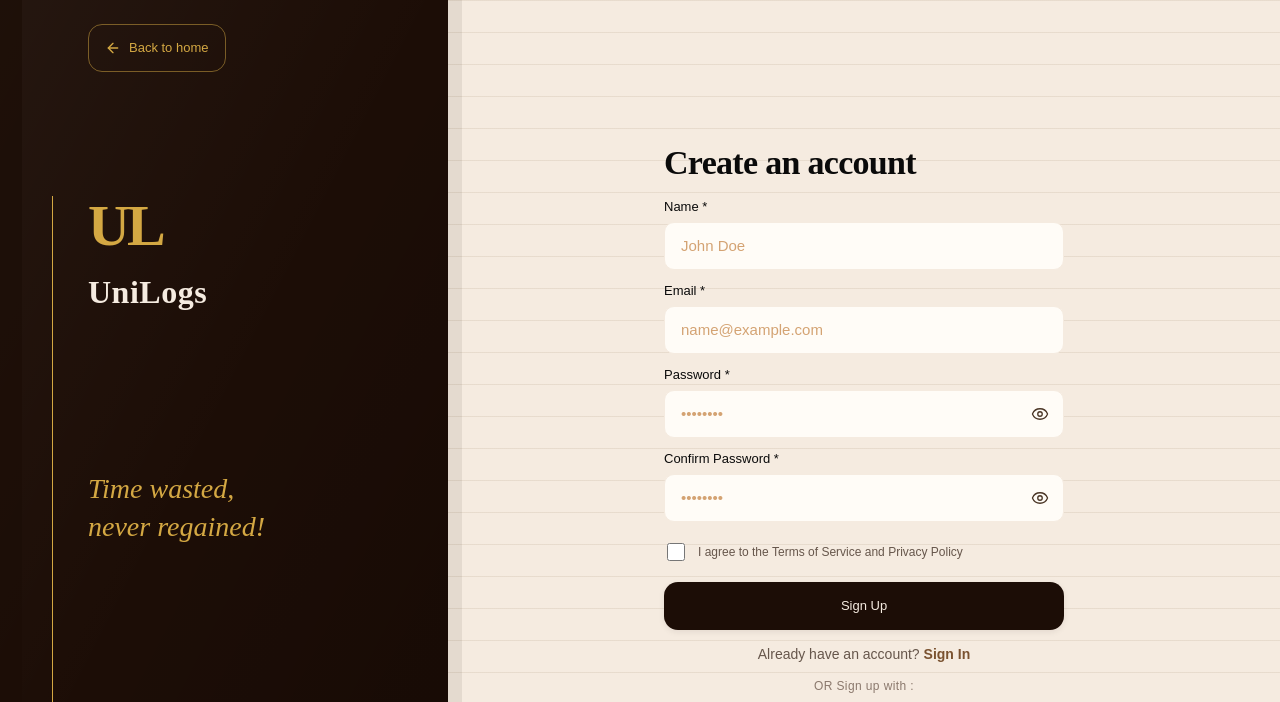
auth back links › sign up → sign in offers "Back to sign up", which leads back to sign up
The width and height of the screenshot is (1280, 702).
Click the link "Sign In". click: (947, 654)
box: [924,646,970,662]
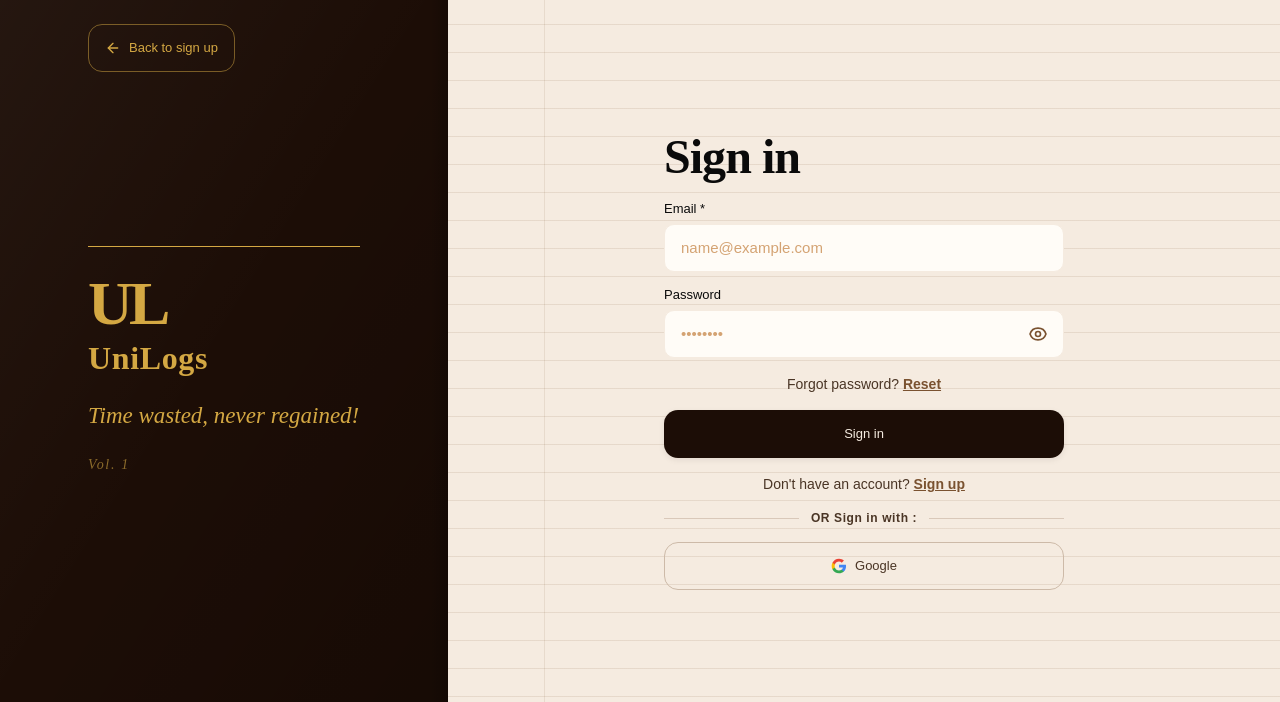
expect the link "Back to sign up" is shown: met
Click the link "Back to sign up". click: (161, 48)
box: [88,24,235,72]
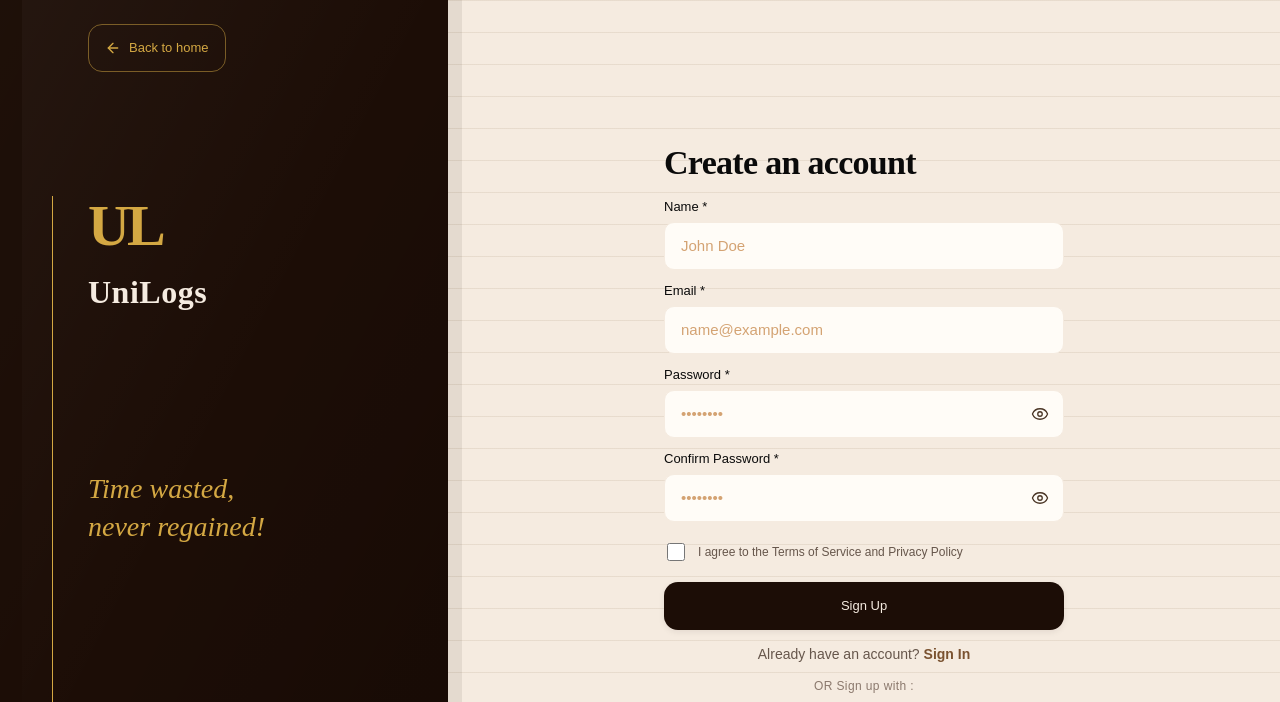
expect the heading "Create an account" is shown: met, box [664,144,916,181]
expect the link "Back to home" is shown: met, box [88,24,226,72]
